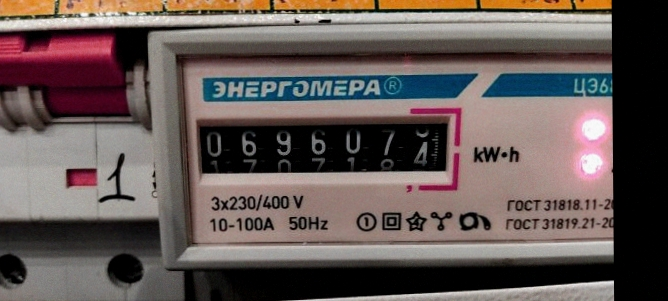0: (343, 125, 362, 155), (204, 129, 222, 157)
4: (412, 139, 428, 167)
6: (239, 127, 258, 156), (308, 127, 327, 156)
7: (379, 126, 396, 156)
9: (274, 128, 291, 156)
screen: (182, 100, 468, 191)
